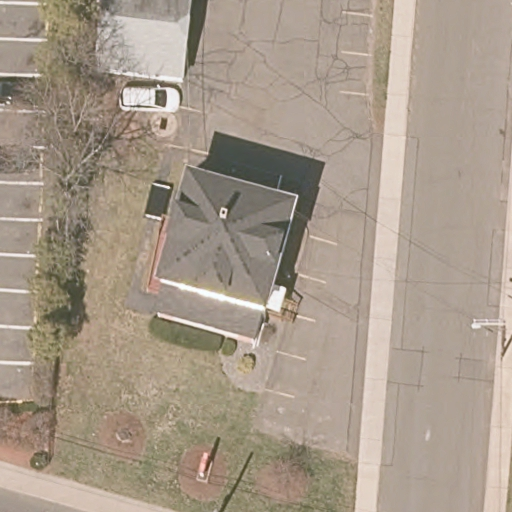DT: (470, 314, 507, 354)
